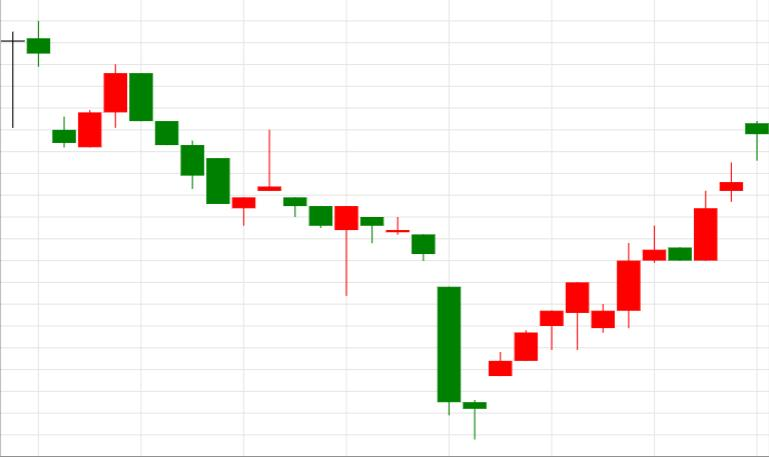morning_star_rise: (283, 196, 512, 439)
